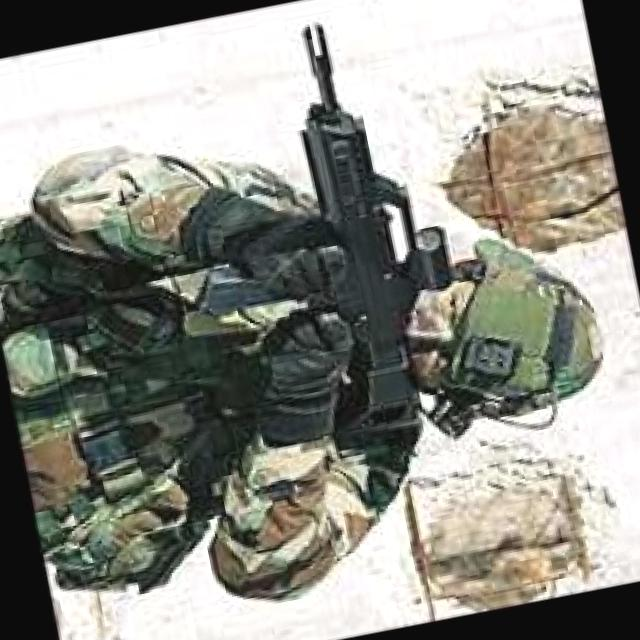long weapon: (146, 0, 472, 467)
